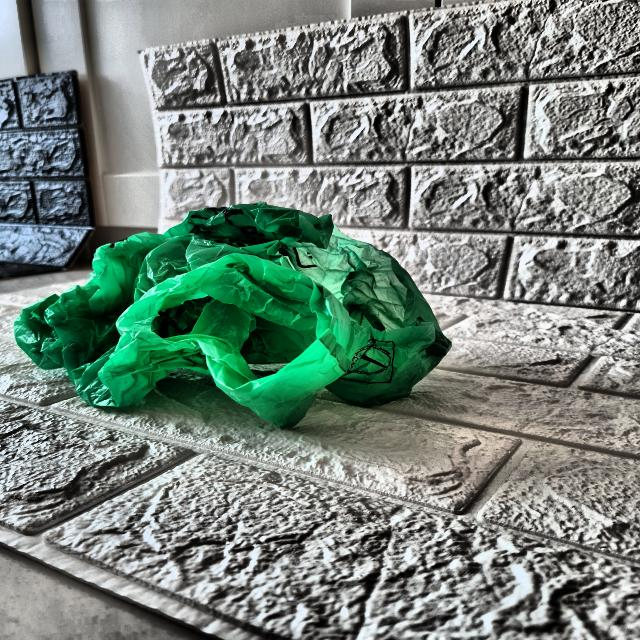plastic bag: (20, 196, 451, 425)
